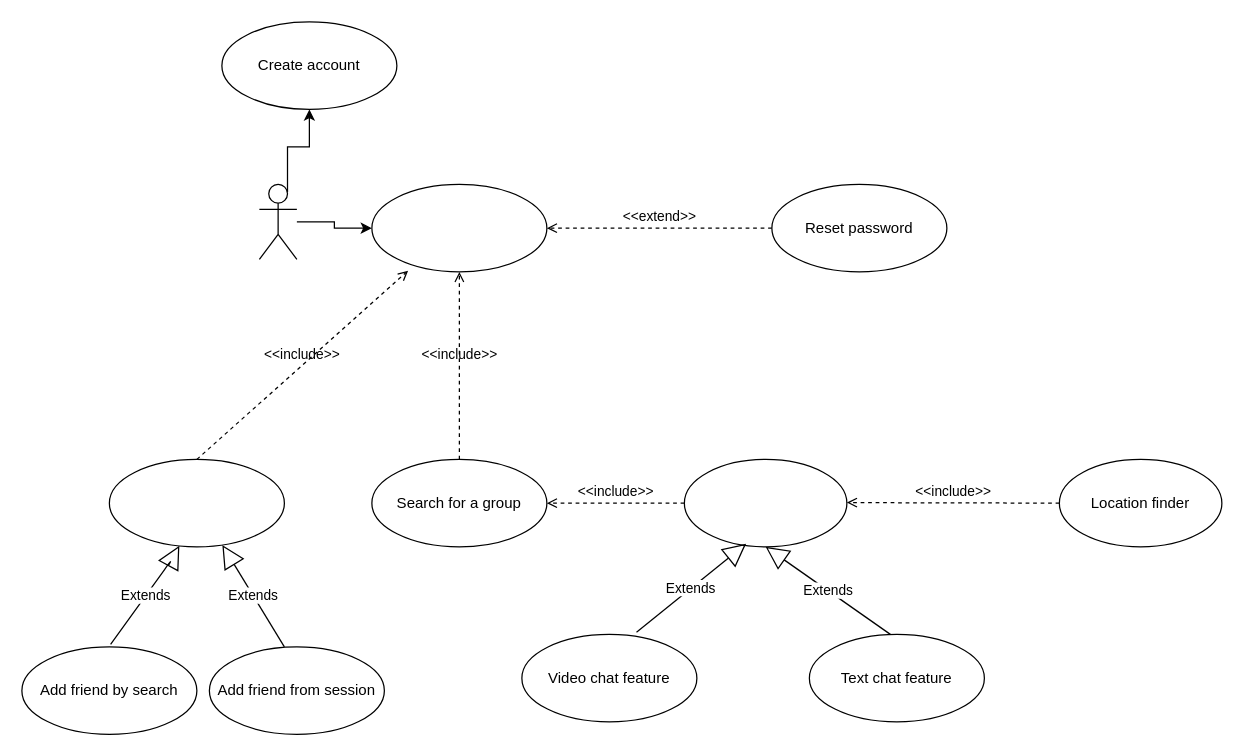
This 1244x756 diagram has some shape labels left out. The shapes that lost their labels are listed below. From the top down, each one's box as (x1, y1, x2, y2) in pixels, then its label:
(258, 183, 297, 259): Actor
(371, 183, 547, 272): User logs in
(108, 458, 284, 547): Add friend
(683, 458, 847, 547): Communciate with group
